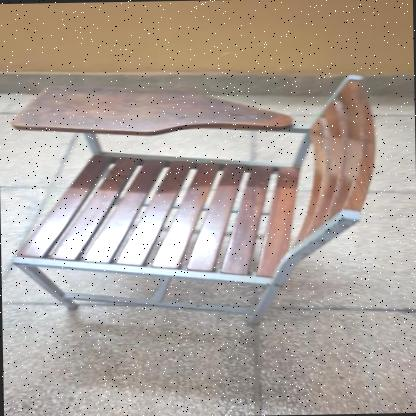chair: (0, 68, 387, 338)
